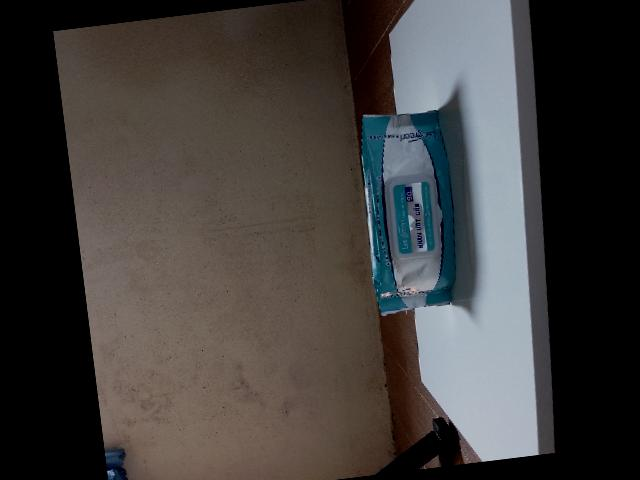Let-green_alcohol_wipes: (361, 109, 455, 315)
